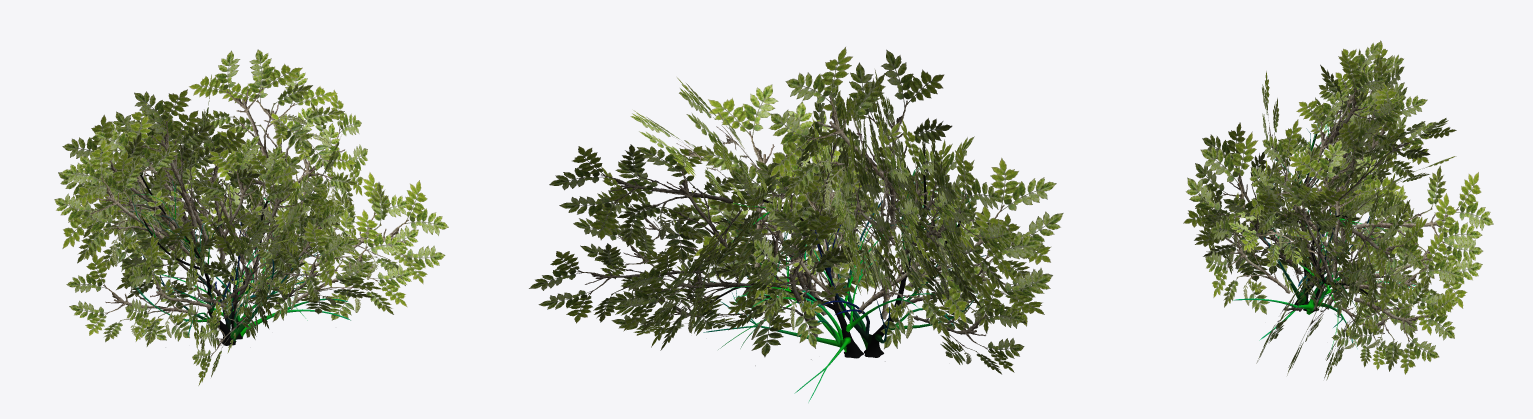
The model's file is Shrub.fbx.
The picture shows the model from 3 angles, left to right: view 1: azimuth 30°, elevation 25°; view 2: azimuth 150°, elevation 25°; view 3: azimuth 270°, elevation 25°; orthographic projection. The views are drawn at different scales.
Visible parts, largest first — view 1: Shrub_Leaf, Shrub_Branch; view 2: Shrub_Leaf, Shrub_Branch; view 3: Shrub_Leaf, Shrub_Branch.
Part boxes in pixels (box(x1,y1,x2,y2)): Shrub_Leaf: box(54, 49, 448, 385); Shrub_Branch: box(126, 138, 350, 345); Shrub_Leaf: box(529, 47, 1063, 374); Shrub_Branch: box(693, 147, 986, 402); Shrub_Leaf: box(1183, 40, 1493, 380); Shrub_Branch: box(1233, 69, 1421, 356).
Bounding box in the file's own units: 442 × 293 × 343.
